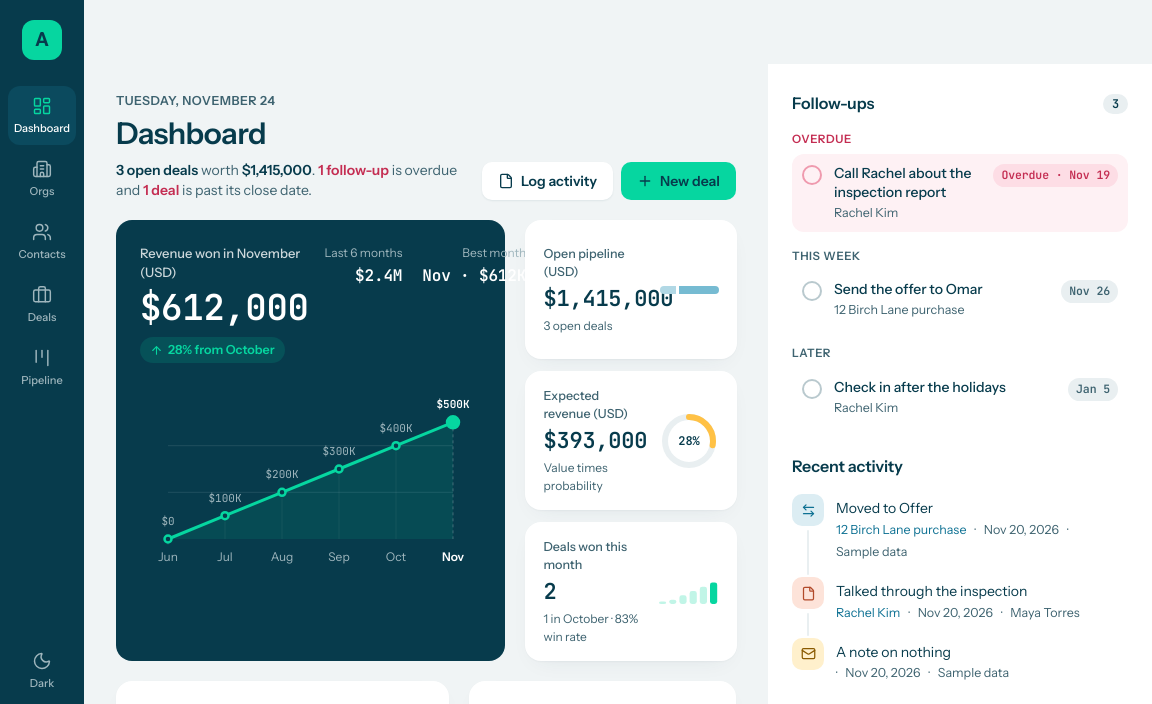
Test case: Dashboard › marks a follow-up done, says so, and refreshes the dashboard
The image size is (1152, 704).
What coordinates should you click on to do the following:
click the button named "Mark done: Call Rachel about the inspection report"
I would click on:
 (812, 175)
Its box is top-left (802, 165), bottom-right (822, 185).
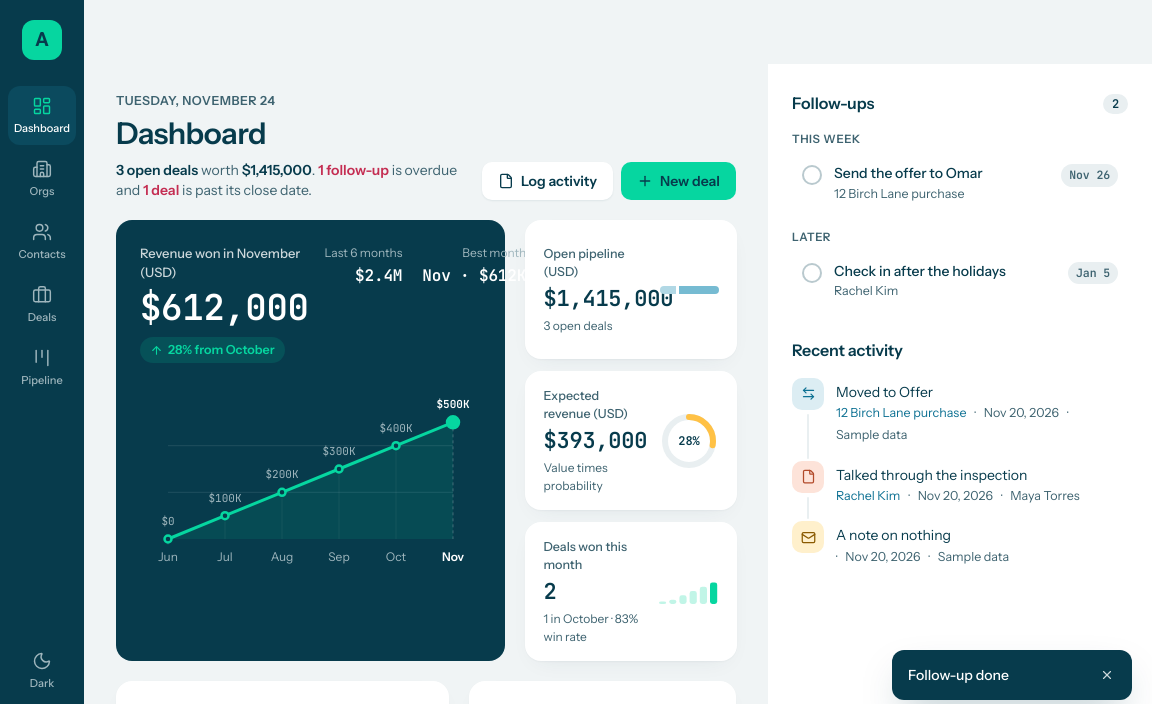
Expected: the text "Follow-up done" is shown, top-left (908, 666), bottom-right (1009, 684)
Expected: the heading "Follow-ups 2" is shown, top-left (792, 92), bottom-right (1128, 115)
